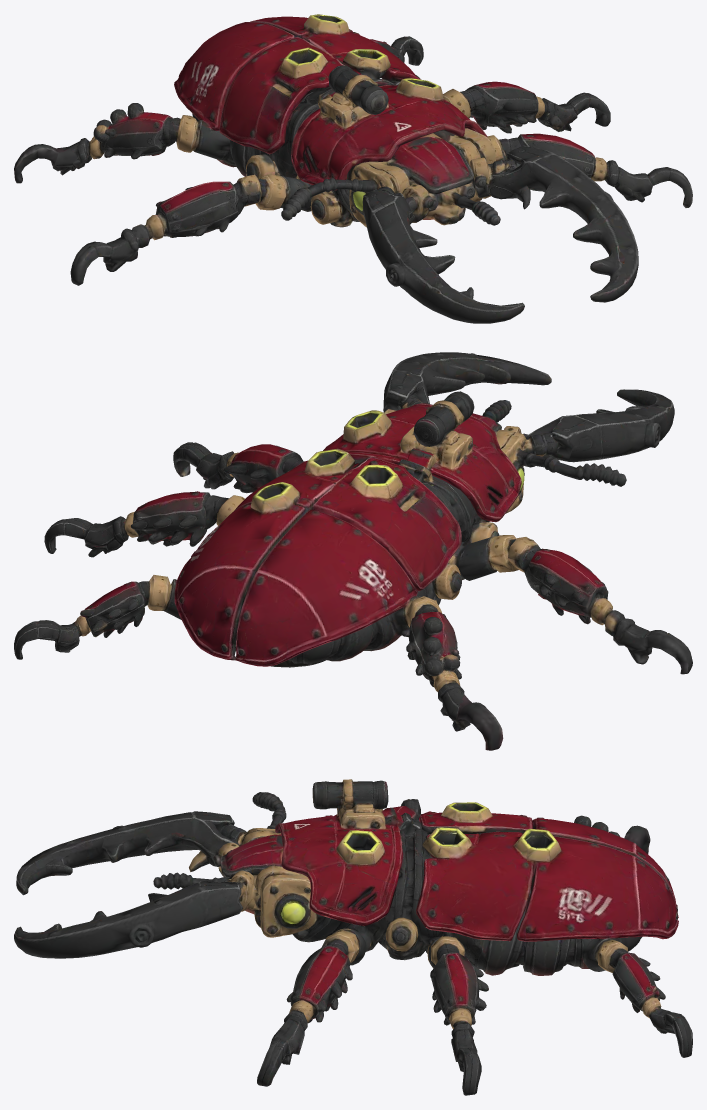
File: stag-beetle.glb
3 views of the same model, one above another, from view 1: azimuth 30°, elevation 25°; view 2: azimuth 150°, elevation 25°; view 3: azimuth 270°, elevation 25° (orthographic). The views are drawn at different scales.
Bounding box in the file's own units: 3.26 × 0.9211 × 3.4.
1 material, 1 textured.
